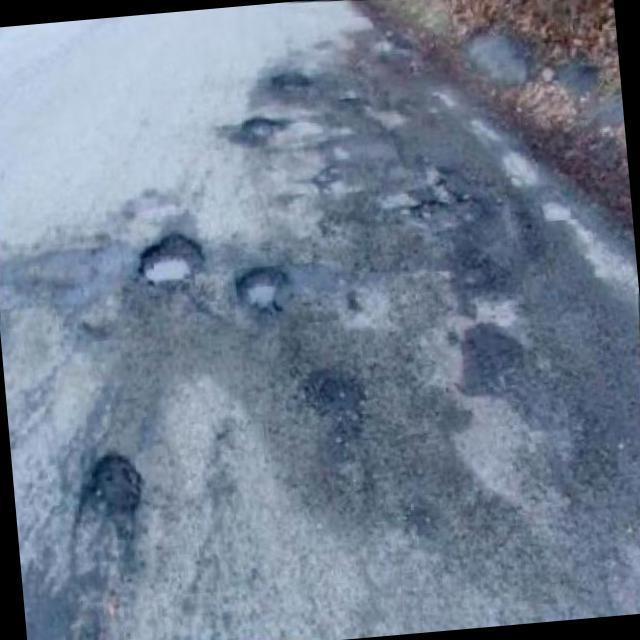Pothole: (90, 453, 144, 532), (138, 232, 203, 290), (408, 184, 483, 230), (238, 265, 289, 312), (236, 115, 289, 141)
